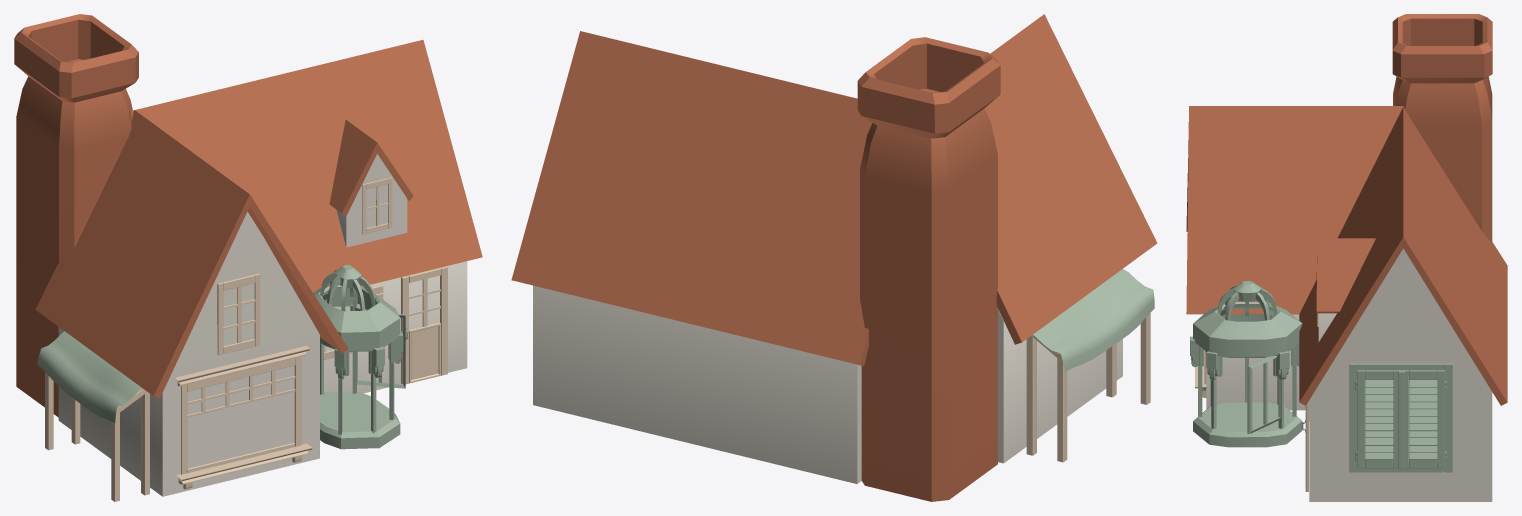
File: WitchHouse.fbx
The picture shows the model from 3 angles, left to right: view 1: azimuth 30°, elevation 25°; view 2: azimuth 150°, elevation 25°; view 3: azimuth 270°, elevation 25°; orthographic projection. The views are drawn at different scales.
Visible parts, largest first — view 1: polySurface52; view 2: polySurface52; view 3: polySurface52.
Boxes of the visible parts, <box> form: polySurface52: <box>14,14,482,501</box>; polySurface52: <box>511,14,1157,501</box>; polySurface52: <box>1186,14,1507,501</box>.
Size of the model in its own units: 21.3 by 17.93 by 15.63.
